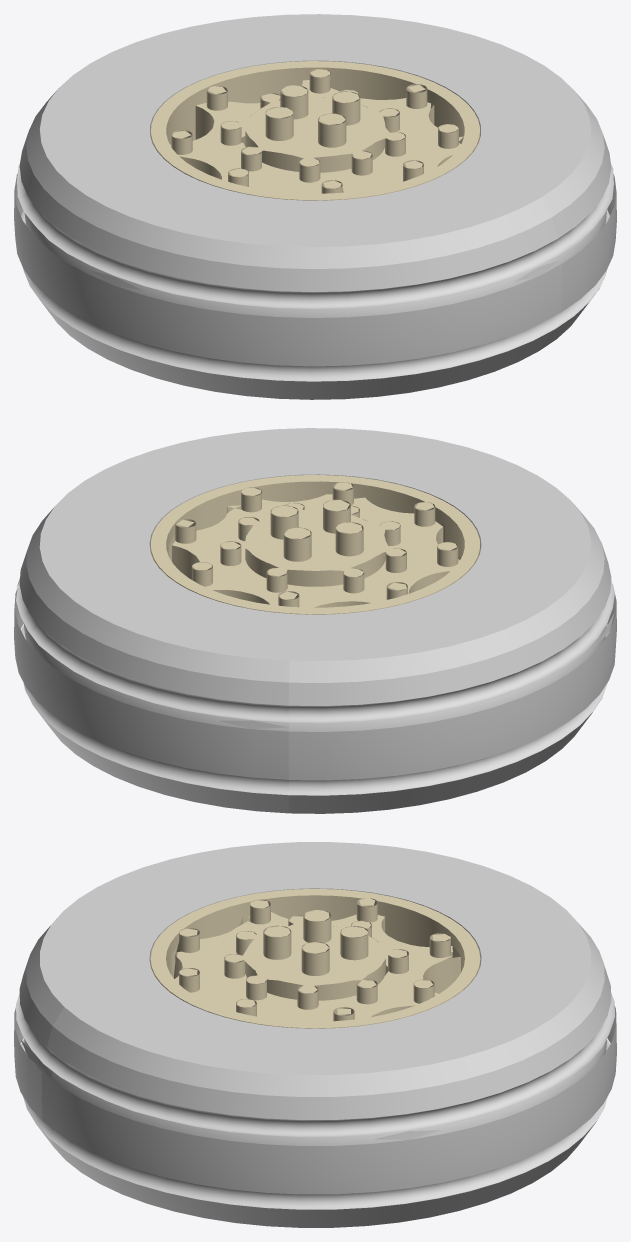
File: front_left_wheel_visual.obj
3 renders of one model, top to bottom at view 1: azimuth 30°, elevation 25°; view 2: azimuth 150°, elevation 25°; view 3: azimuth 270°, elevation 25°, orthographic.
Parts seen in each view (by area): view 1: front_left_wheel_visual; view 2: front_left_wheel_visual; view 3: front_left_wheel_visual.
Boxes of the visible parts, bbox=[...] form: front_left_wheel_visual: bbox=[14, 14, 616, 399]; front_left_wheel_visual: bbox=[14, 428, 616, 813]; front_left_wheel_visual: bbox=[14, 842, 616, 1227].
Size of the model in its own units: 0.516 by 0.1749 by 0.516.
